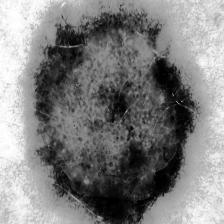Benign Marking or Mole: (23, 0, 202, 224)
